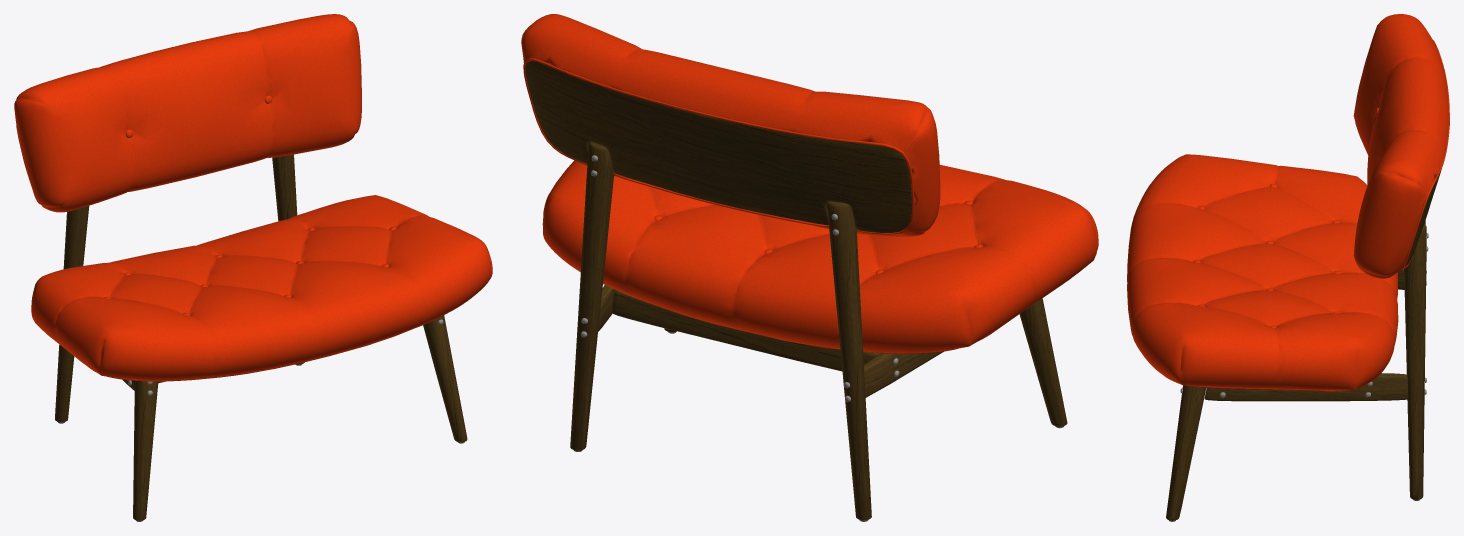
The model's file is accent-chair.glb.
The picture shows the model from 3 angles, left to right: view 1: azimuth 30°, elevation 25°; view 2: azimuth 150°, elevation 25°; view 3: azimuth 270°, elevation 25°; orthographic projection. The views are drawn at different scales.
Parts seen in each view (by area): view 1: SheenChair_fabric, SheenChair_wood; view 2: SheenChair_fabric, SheenChair_wood; view 3: SheenChair_fabric, SheenChair_wood.
Part boxes in pixels (bbox=[...]): SheenChair_fabric: bbox=[14, 14, 492, 381]; SheenChair_wood: bbox=[55, 154, 467, 520]; SheenChair_fabric: bbox=[521, 14, 1098, 353]; SheenChair_wood: bbox=[525, 61, 1067, 520]; SheenChair_fabric: bbox=[1127, 14, 1449, 391]; SheenChair_wood: bbox=[1166, 169, 1441, 520].
Bounding box in the file's own units: 0.8266 × 0.6861 × 0.5699.
3 materials, 2 textured.
